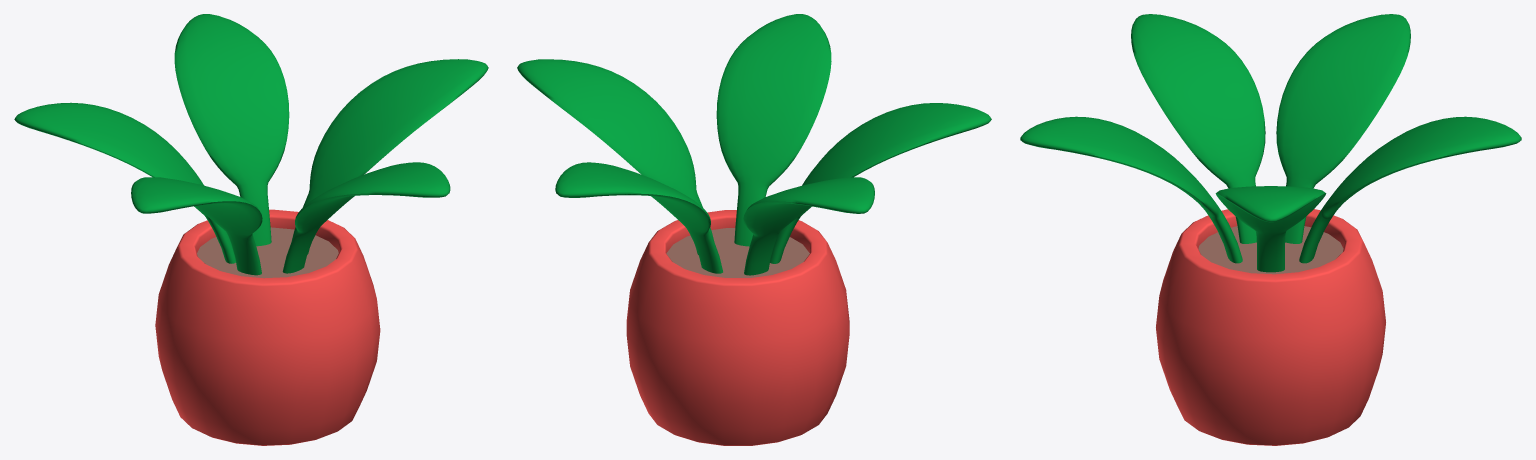
The model's file is City_12_Plant_3.glb.
3 views of the same model, side by side, from view 1: azimuth 30°, elevation 25°; view 2: azimuth 150°, elevation 25°; view 3: azimuth 270°, elevation 25° (orthographic). The views are drawn at different scales.
Parts seen in each view (by area): view 1: City_12_Plant_3; view 2: City_12_Plant_3; view 3: City_12_Plant_3.
Boxes of the visible parts, x1,y1,x2,y2 form: City_12_Plant_3: [14, 14, 488, 445]; City_12_Plant_3: [517, 14, 991, 445]; City_12_Plant_3: [1020, 14, 1521, 445].
Size of the model in its own units: 1.34 by 0.9266 by 1.39.
1 material, 1 textured.
